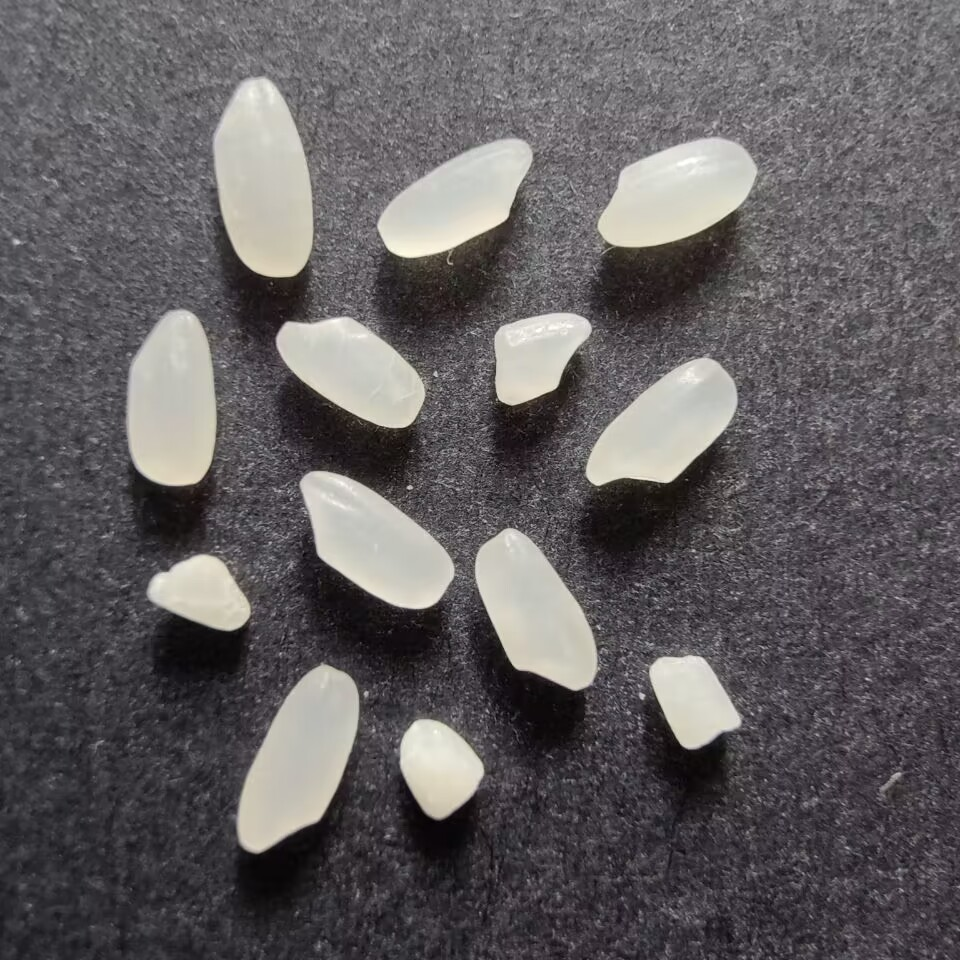broken: (394, 715, 492, 828), (490, 309, 595, 408), (645, 653, 746, 755), (143, 549, 254, 637)
rice: (235, 660, 365, 859), (296, 467, 457, 616), (208, 69, 316, 285), (471, 523, 600, 694), (581, 355, 742, 491), (375, 136, 533, 259), (270, 311, 429, 432), (591, 136, 758, 250), (123, 305, 218, 491)
